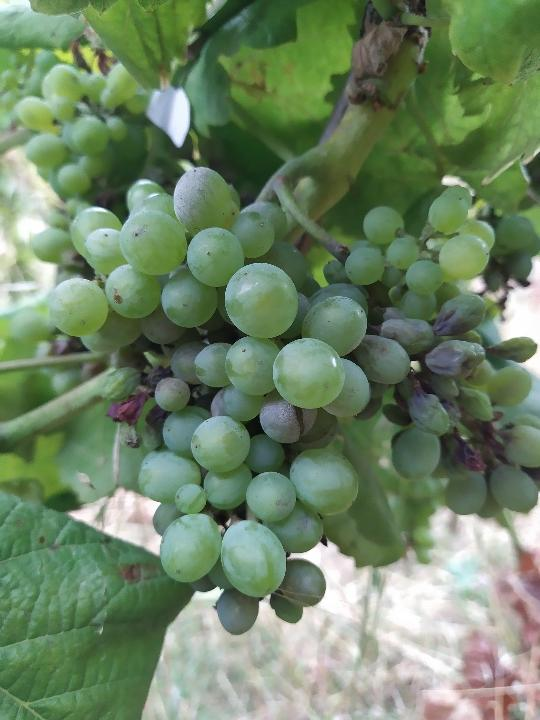grape: (47, 162, 513, 636)
